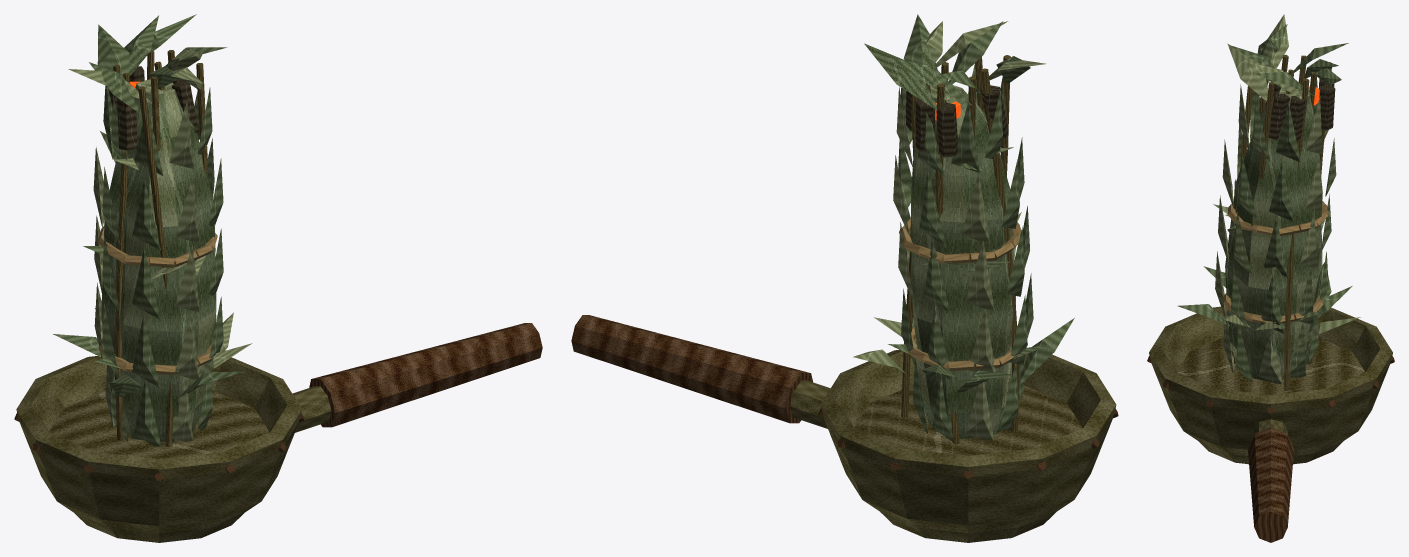
File: blender_incense_3_burning.glb
The picture shows the model from 3 angles, left to right: view 1: azimuth 30°, elevation 25°; view 2: azimuth 150°, elevation 25°; view 3: azimuth 270°, elevation 25°; orthographic projection. The views are drawn at different scales.
Parts seen in each view (by area): view 1: blender_incense_3_burning; view 2: blender_incense_3_burning; view 3: blender_incense_3_burning.
Part boxes in pixels (x1,y1,x2,y2): blender_incense_3_burning: (14,14,542,542); blender_incense_3_burning: (571,14,1118,542); blender_incense_3_burning: (1147,14,1394,542).
Bounding box in the file's own units: 0.2343 × 0.203 × 0.1177.
Materials: 9 (9 with a texture image).
